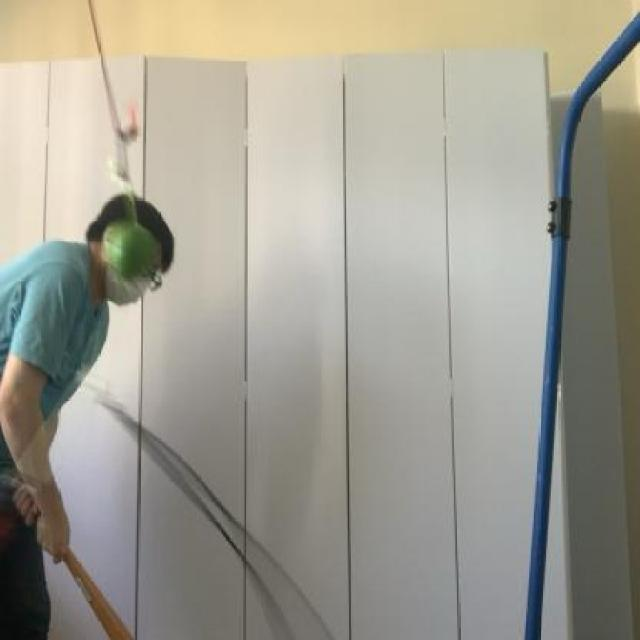baseball: (101, 212, 168, 292)
